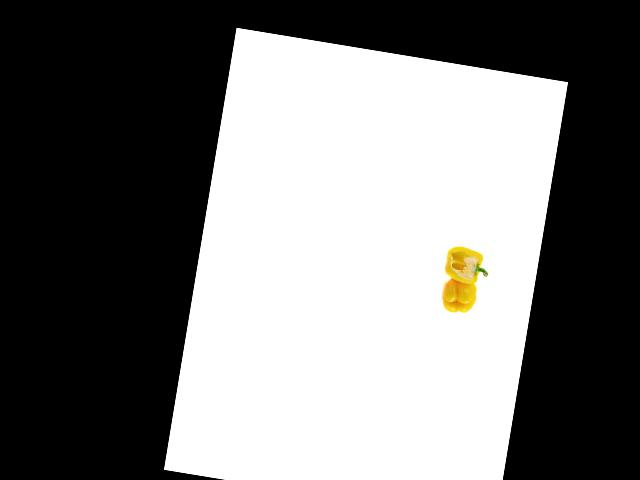bell_pepper: (433, 241, 492, 293)
